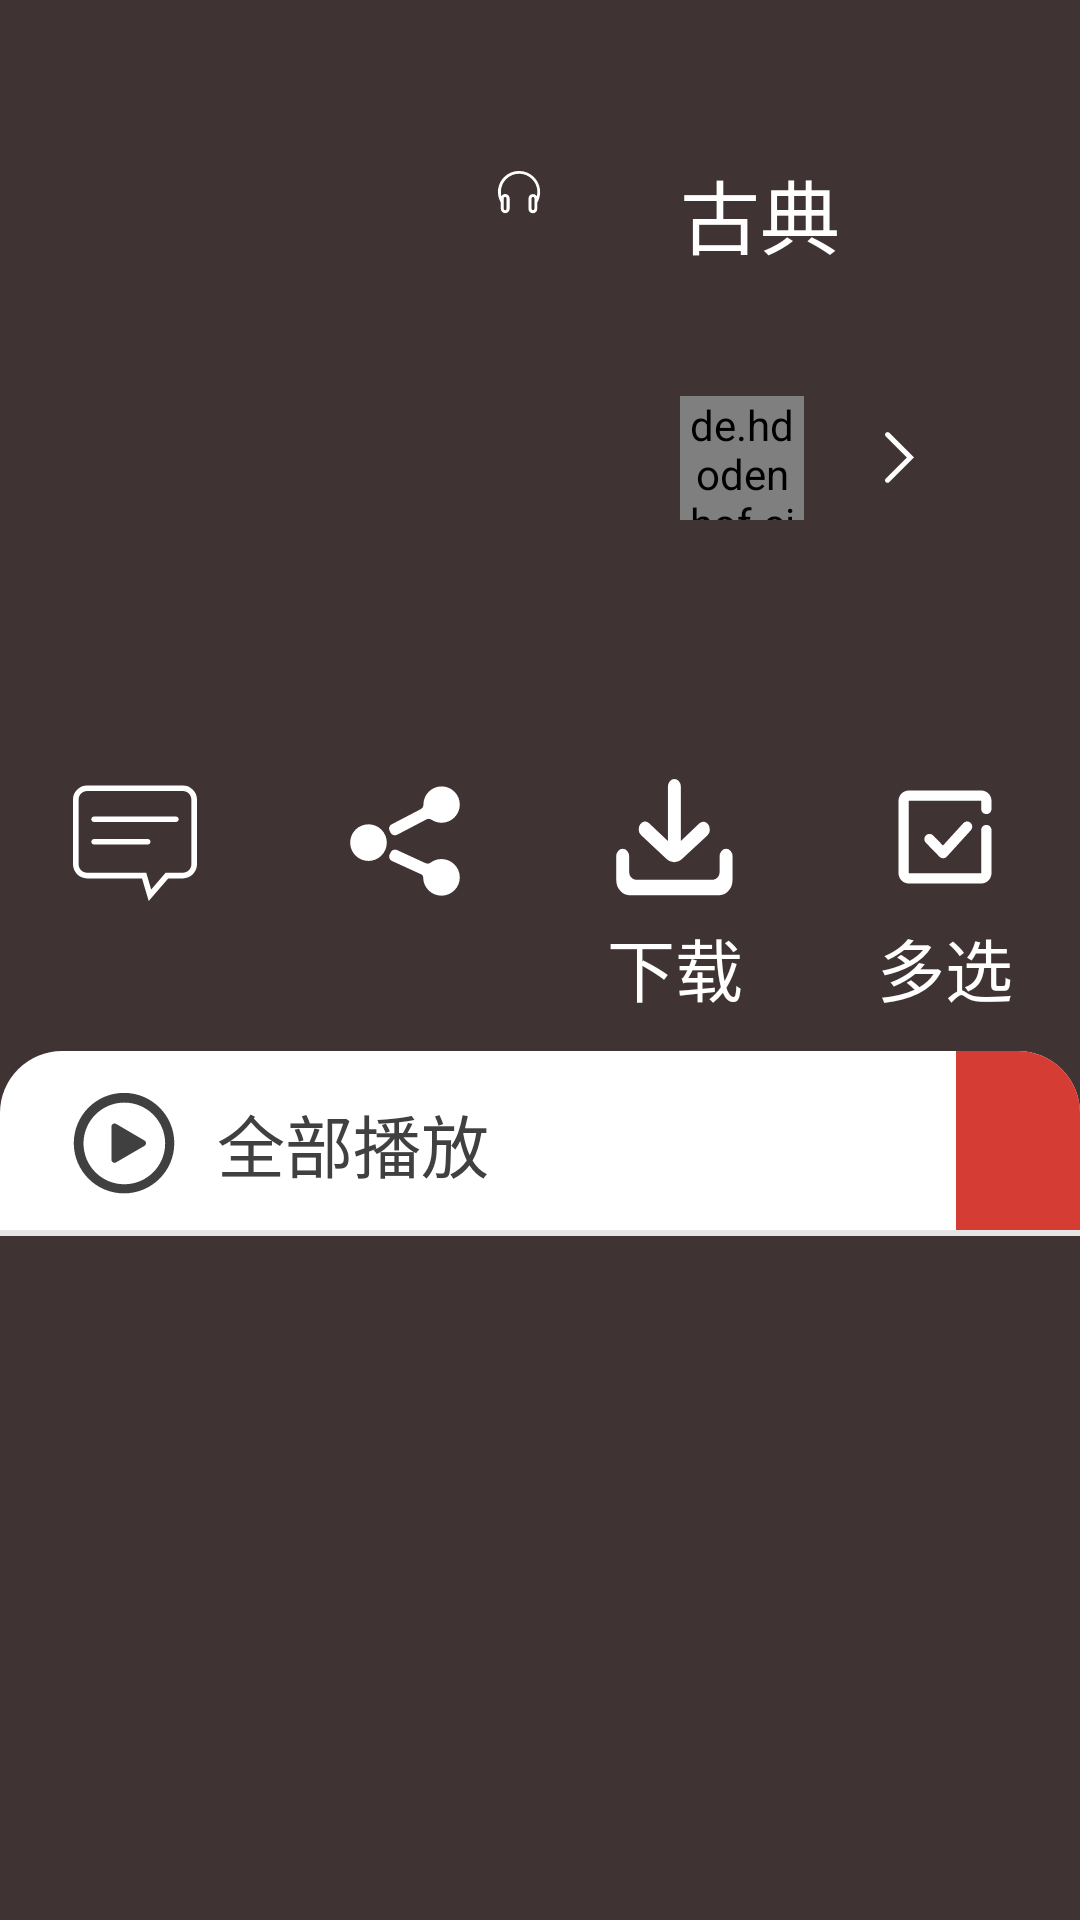

Icon bounding boxes for this 1080 × 1920 phone screenshot, format (x1, y1, x2, y2):
arrows right: (885, 432, 914, 483)
bo fang: (73, 1093, 175, 1194)
comment: (73, 785, 197, 901)
down load: (616, 779, 733, 896)
headset: (498, 171, 540, 214)
share: (350, 786, 460, 896)
